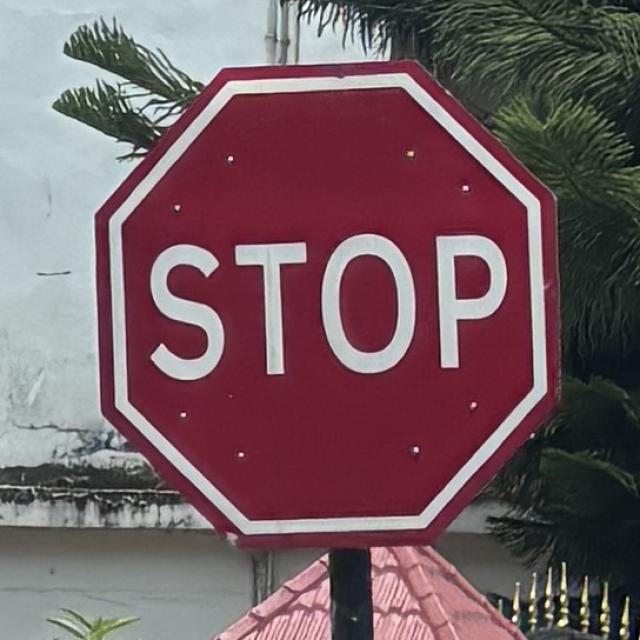STOP: (89, 52, 569, 552)
